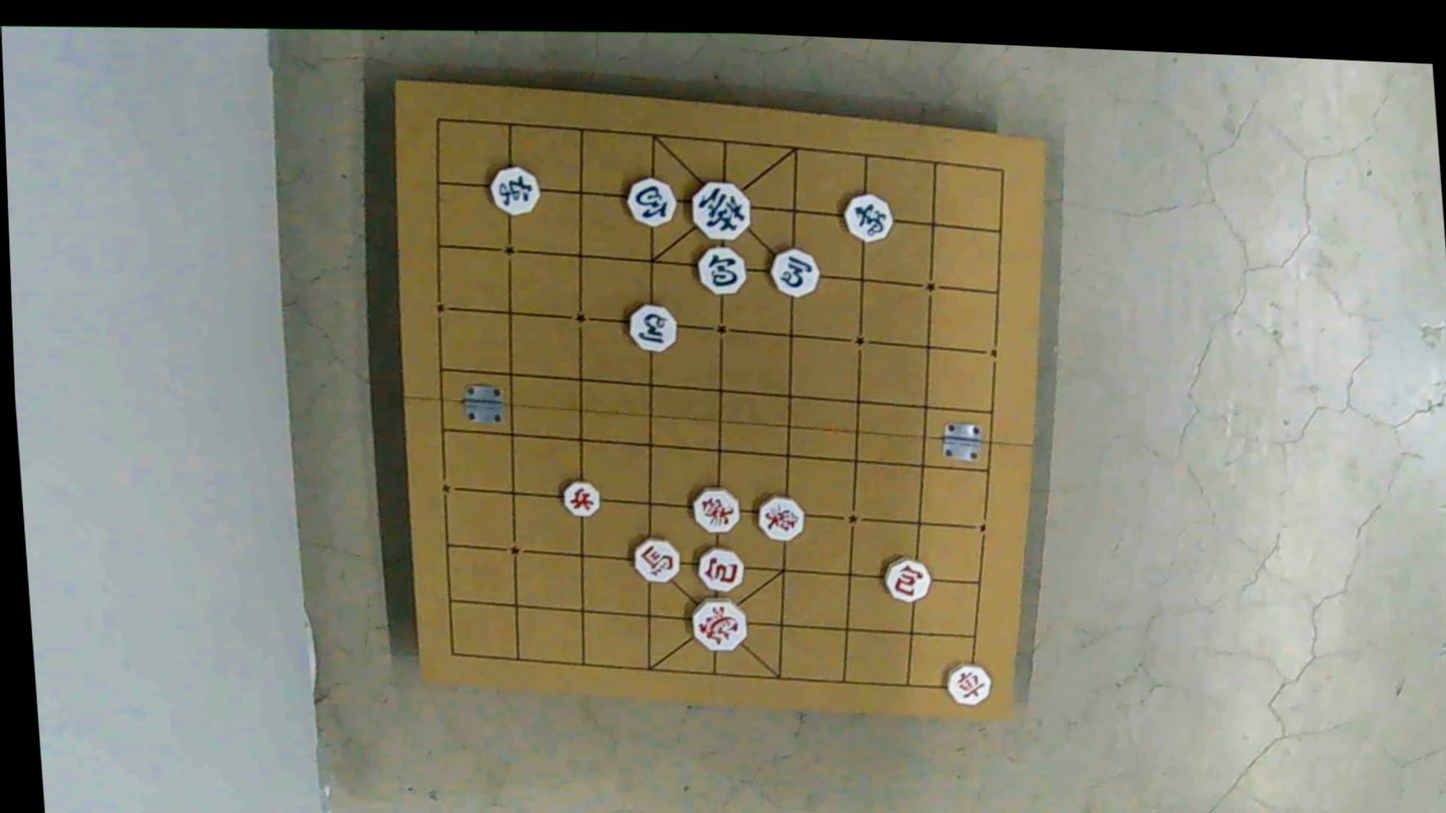cha_green: (487, 164, 538, 215)
cha_red: (945, 660, 993, 705)
jol_red: (560, 479, 599, 518)
ma_green: (768, 243, 819, 296), (627, 302, 678, 352)
ma_red: (630, 535, 680, 582)
po_green: (624, 174, 676, 226), (696, 242, 747, 295)
po_red: (695, 544, 744, 591), (883, 555, 932, 601)
sang_green: (842, 190, 893, 241)
sang_red: (755, 493, 805, 542), (689, 486, 739, 533)
wang_green: (688, 178, 751, 242)
wang_red: (690, 596, 748, 651)
